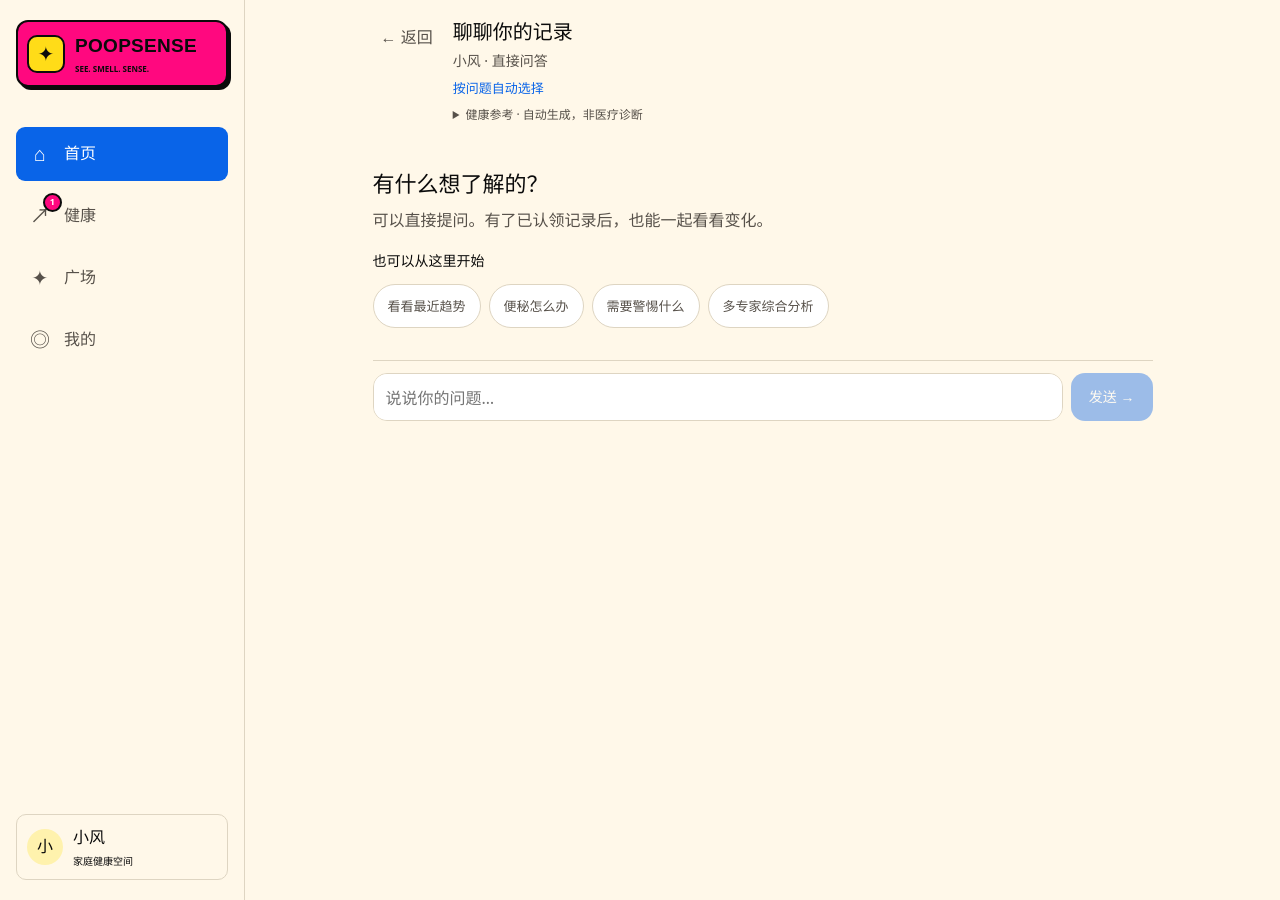
Test: model routing provenance › shows the actual answer model immediately with message version present=true
Type "如何开始使用" into the text box named "描述你的情况" at x=718, y=397, box [372,373,1063,421]
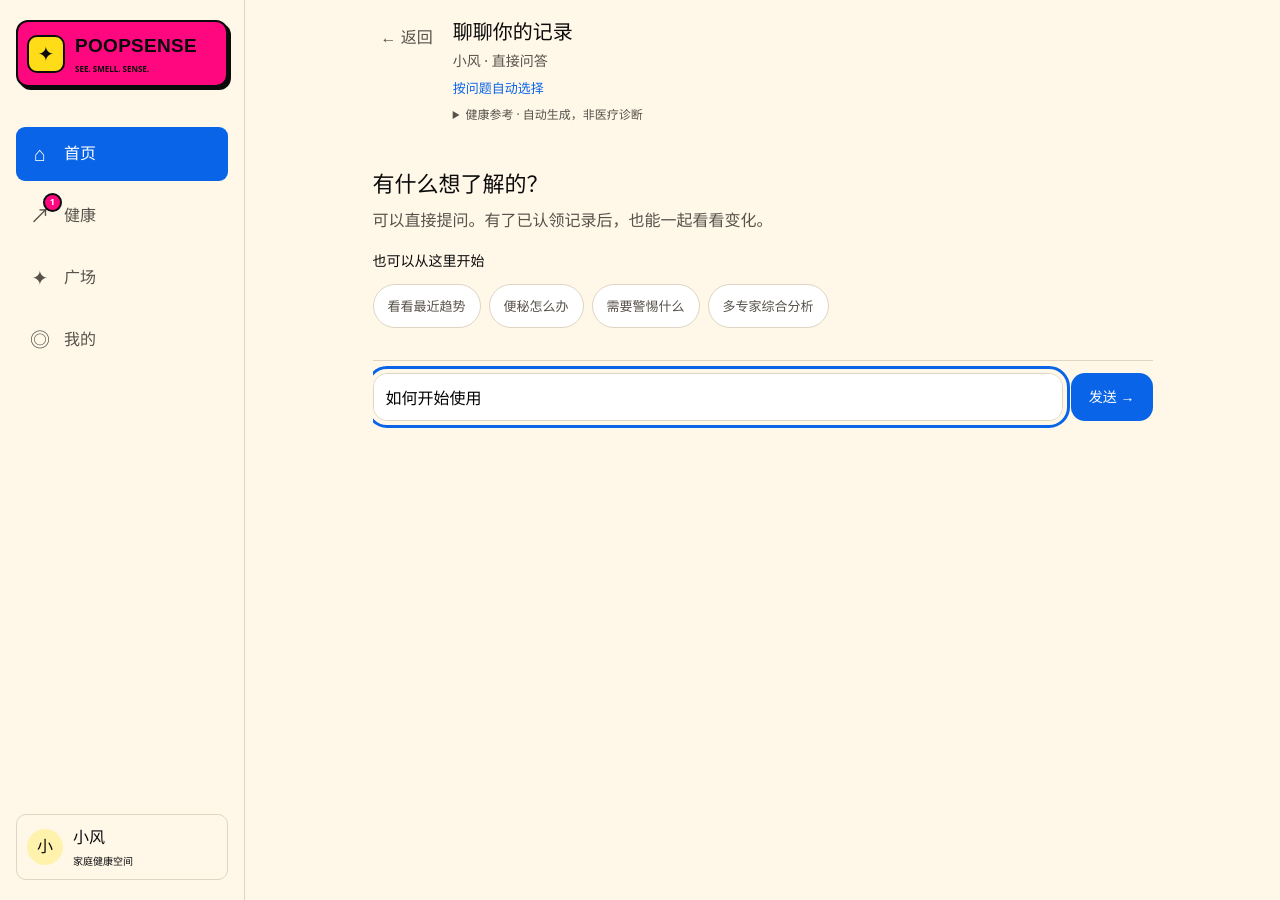
Click the button "发送 →" at x=1112, y=397, box [1071,373,1152,421]
(page scrolled)
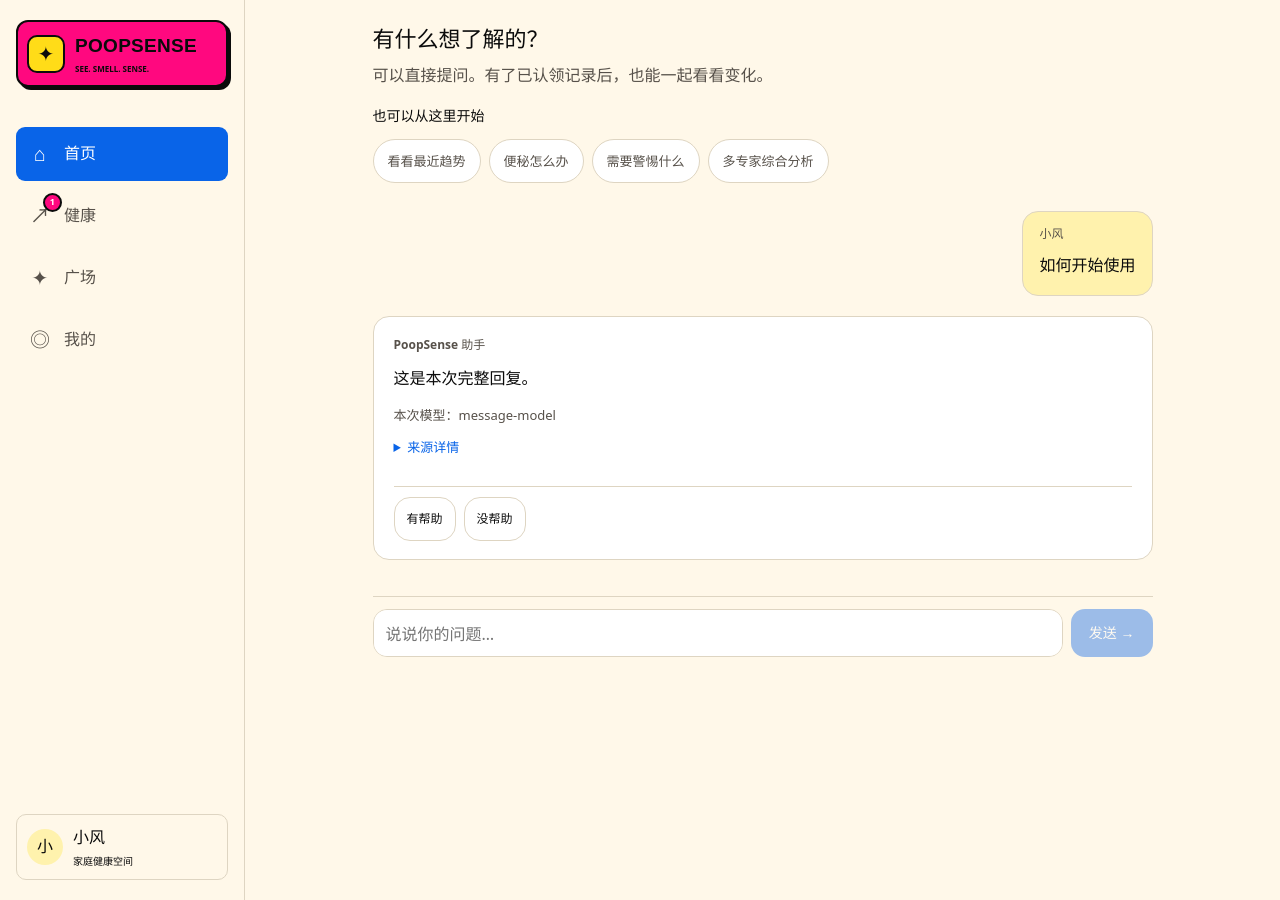
Expected: the element named "回答来源" does not show "current-default-model", [394,406,556,456]
Expected: the text "这是本次完整回复。" is shown, [394,367,538,389]
Click the heading "来源详情" at x=433, y=447, box [407,438,459,456]
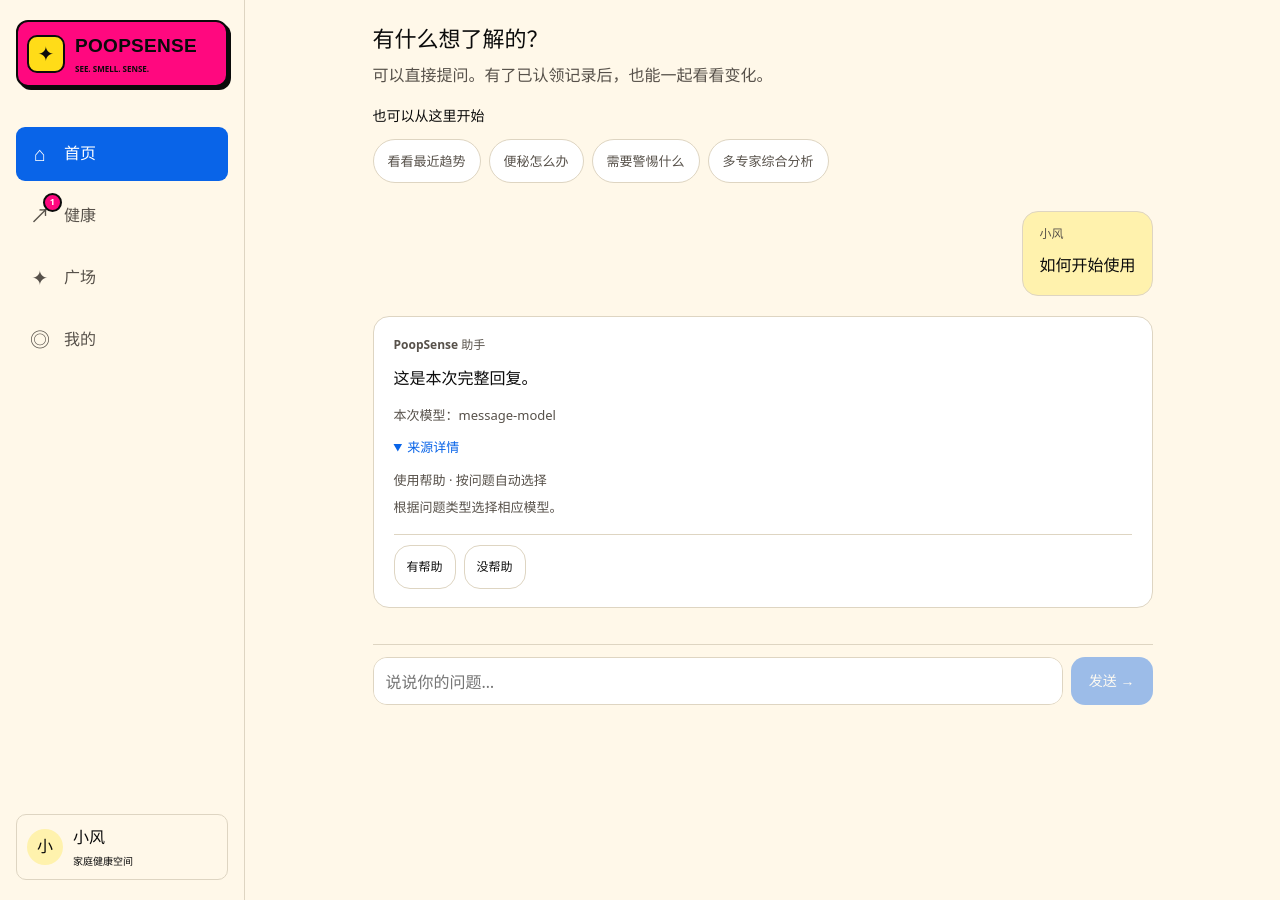
Expected: the element named "回答来源" does not show "task_route", [394,406,562,516]
Expected: the text "使用帮助 · 按问题自动选择" is shown, [394,471,547,489]
Expected: the text "根据问题类型选择相应模型。" is shown, [394,498,562,516]
